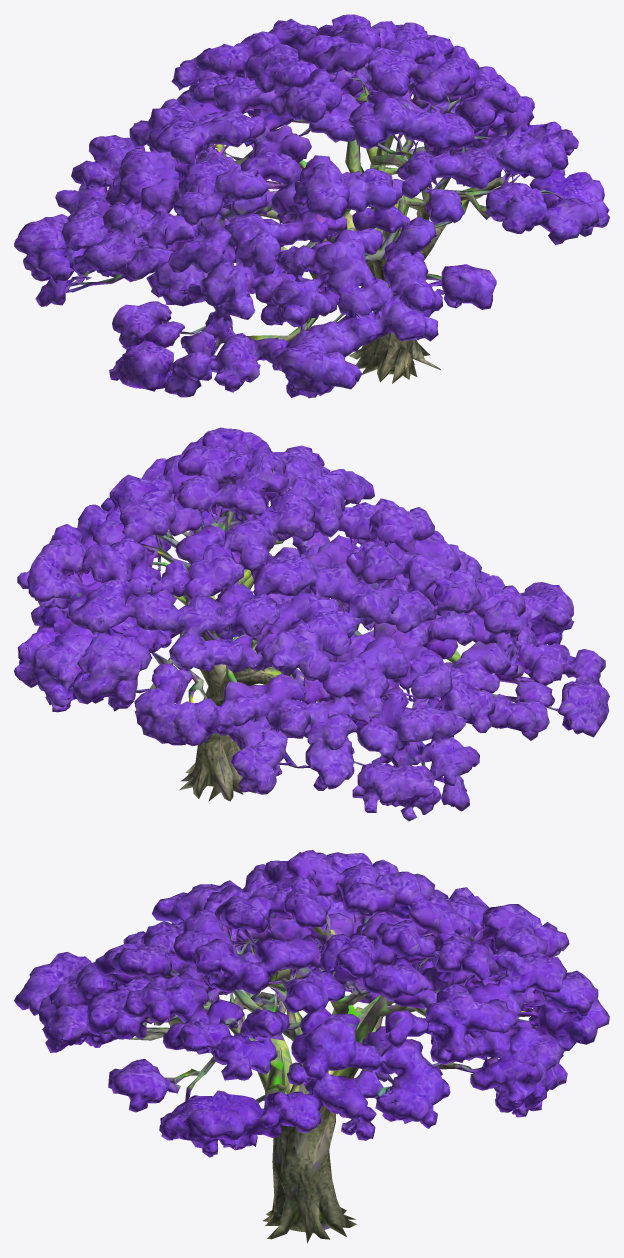
The model's file is JacarandaTree_Right.fbx.
3 renders of one model, top to bottom at view 1: azimuth 30°, elevation 25°; view 2: azimuth 150°, elevation 25°; view 3: azimuth 270°, elevation 25°, orthographic. The views are drawn at different scales.
Parts seen in each view (by area): view 1: mesh_node; view 2: mesh_node; view 3: mesh_node.
Part boxes in pixels (<box>): mesh_node: <box>14,14,609,398</box>; mesh_node: <box>14,427,609,821</box>; mesh_node: <box>14,850,609,1243</box>.
Bounding box in the file's own units: 13.87 × 9 × 13.84.
1 material, 1 textured.
